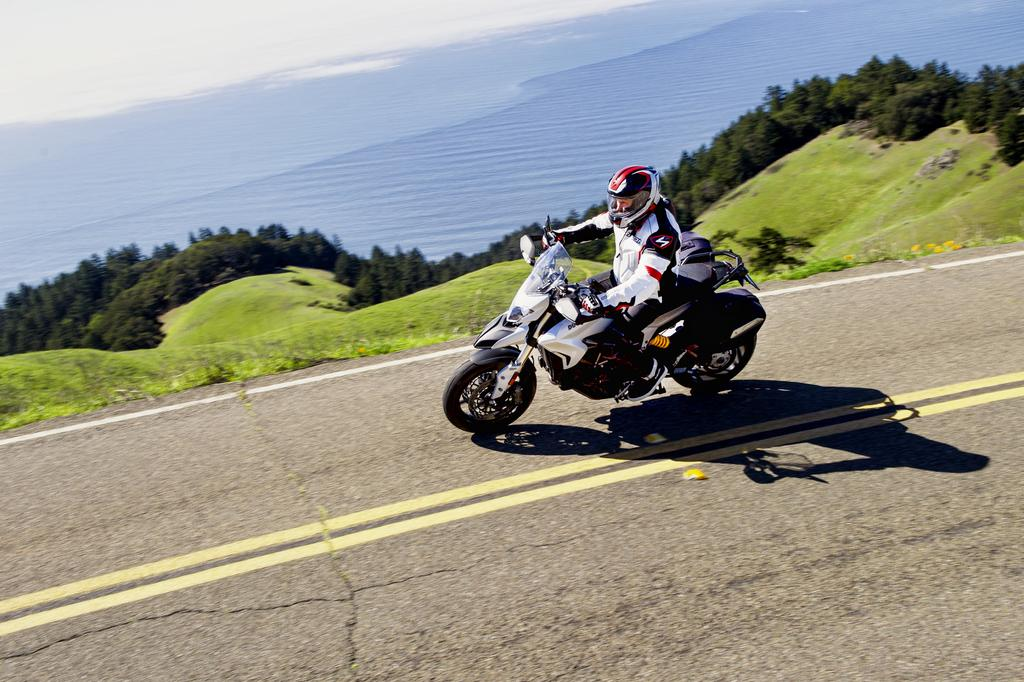helmet: (607, 165, 660, 229)
